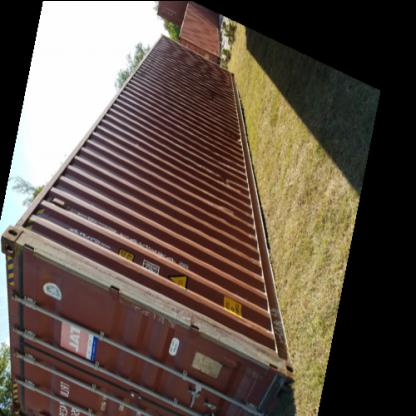Damage: (108, 291, 184, 328), (194, 84, 220, 100), (221, 130, 244, 146), (215, 175, 233, 189)
